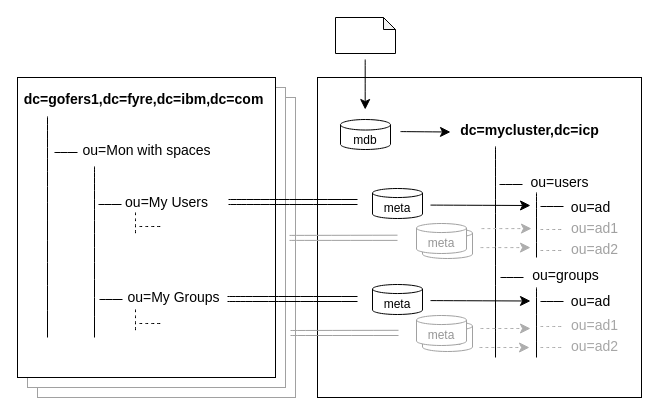
The diagram is 659 pixels wide and 415 high, and some of its shapes have lost their labels. Each missing label, with the box of its shape:
Active Directory: (16, 76, 276, 378)
OpenLDAP: (316, 76, 642, 398)
sso.ldif: (334, 16, 396, 54)
